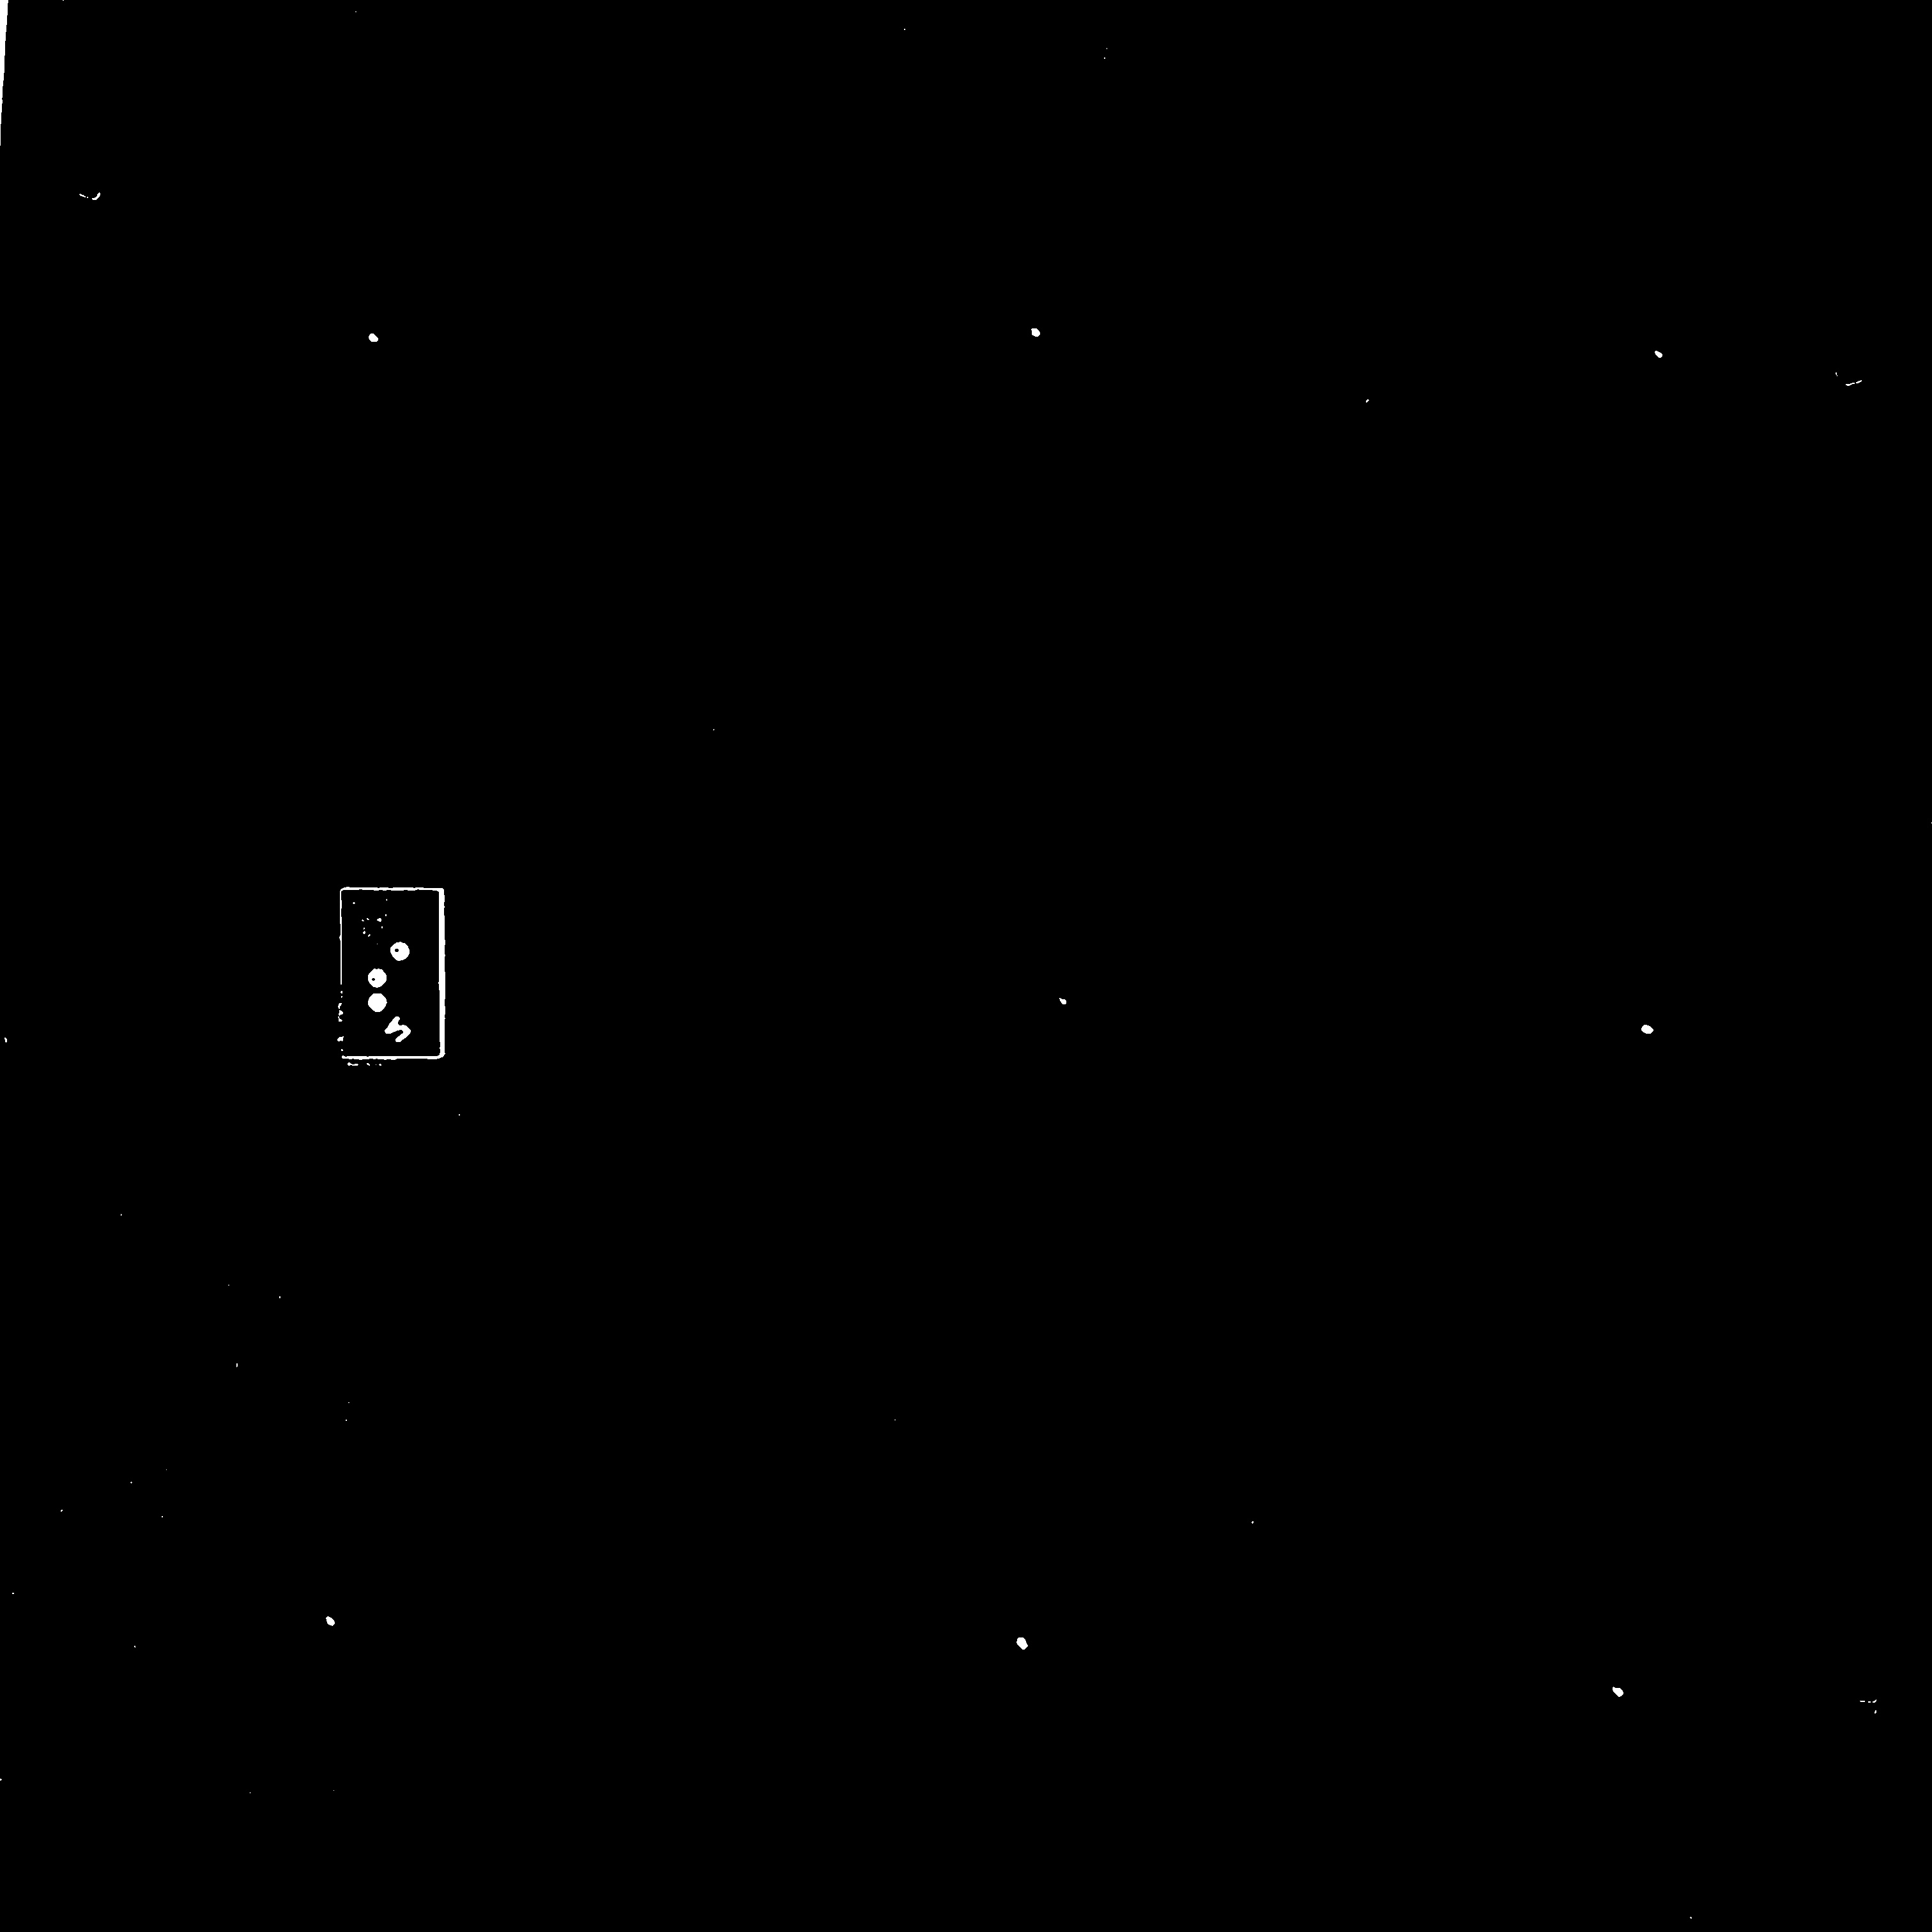s: (357, 927, 424, 1020)
